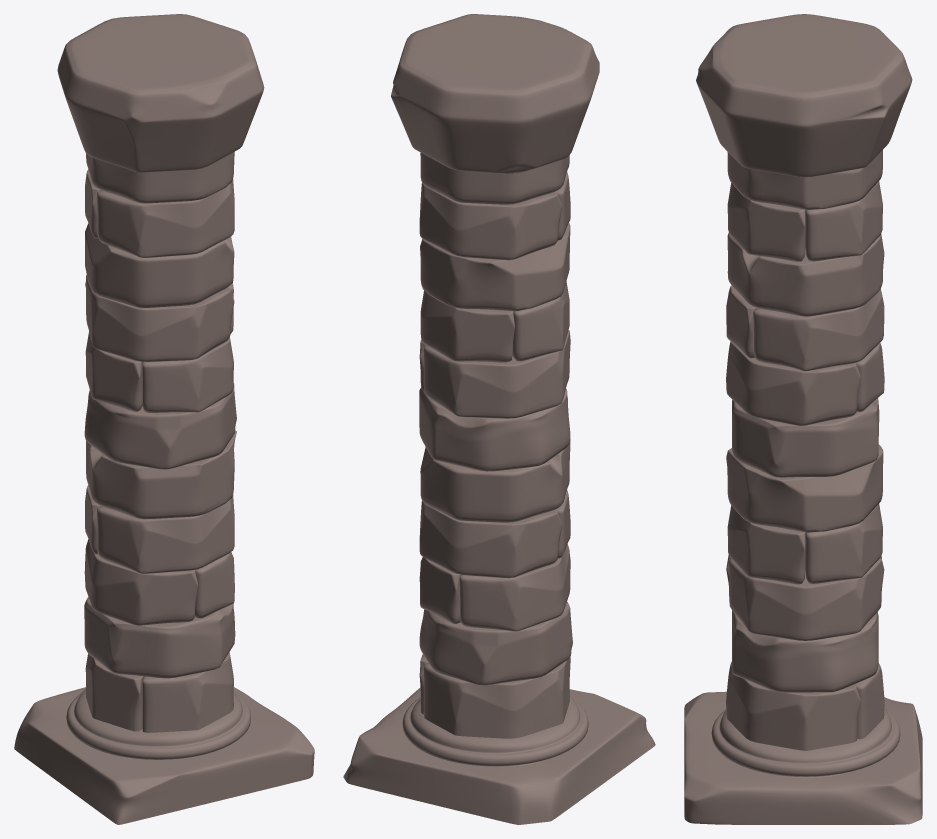
Rendered from 1ColumnAsset.fbx.
The picture shows the model from 3 angles, left to right: view 1: azimuth 30°, elevation 25°; view 2: azimuth 150°, elevation 25°; view 3: azimuth 270°, elevation 25°; orthographic projection. The views are drawn at different scales.
Parts seen in each view (by area): view 1: Cube.020; view 2: Cube.020; view 3: Cube.020.
Part boxes in pixels (bbox=[...]): Cube.020: bbox=[14, 14, 314, 824]; Cube.020: bbox=[343, 14, 655, 824]; Cube.020: bbox=[684, 14, 922, 824].
Size of the model in its own units: 60.09 by 60 by 200.
